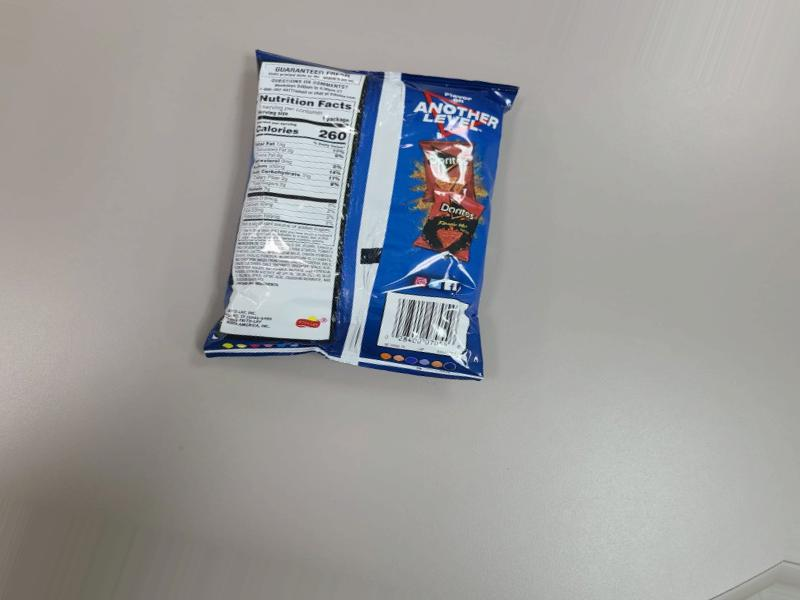doritos: (184, 59, 522, 416)
